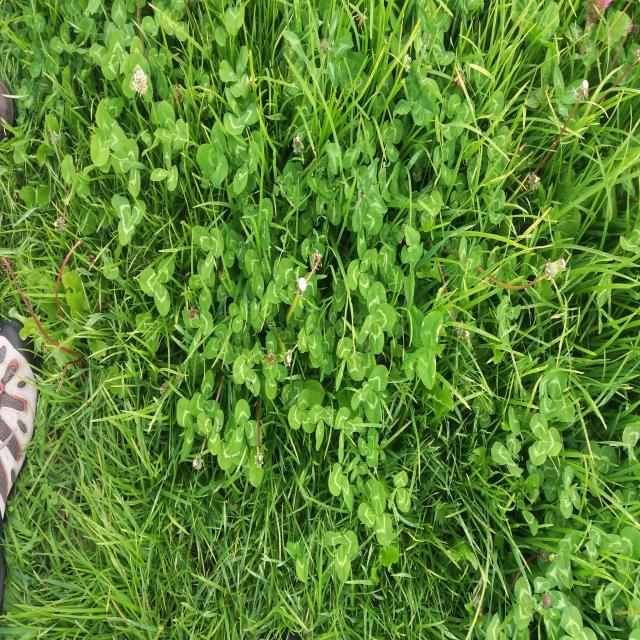Four Leaf Clover: (358, 281, 396, 355)
